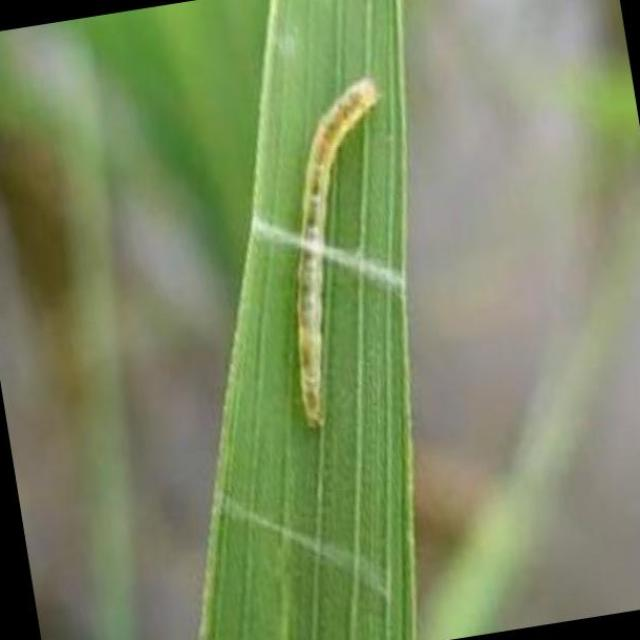leaf folder: (295, 78, 379, 427)
